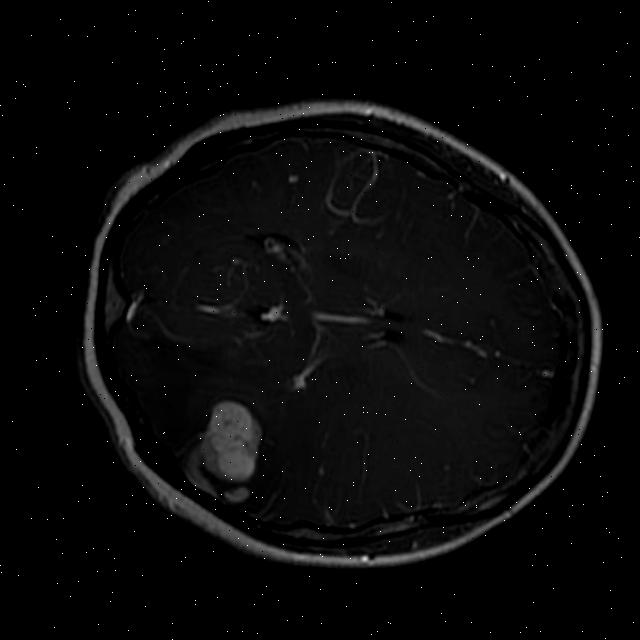Glioma: (172, 392, 272, 507)
